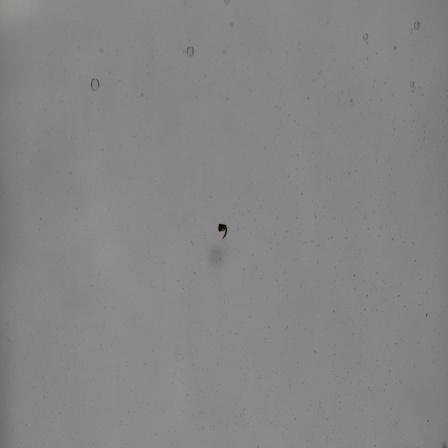Jentik-Nyamuk: (213, 218, 230, 243)
